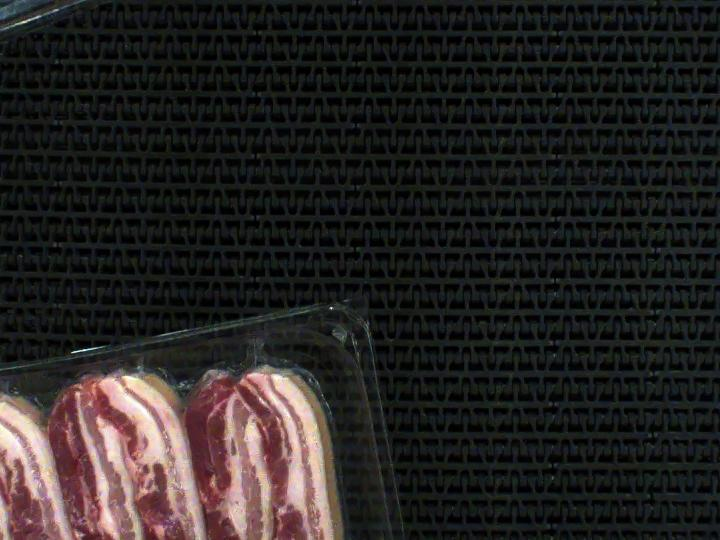unsealed: (0, 331, 340, 540)
